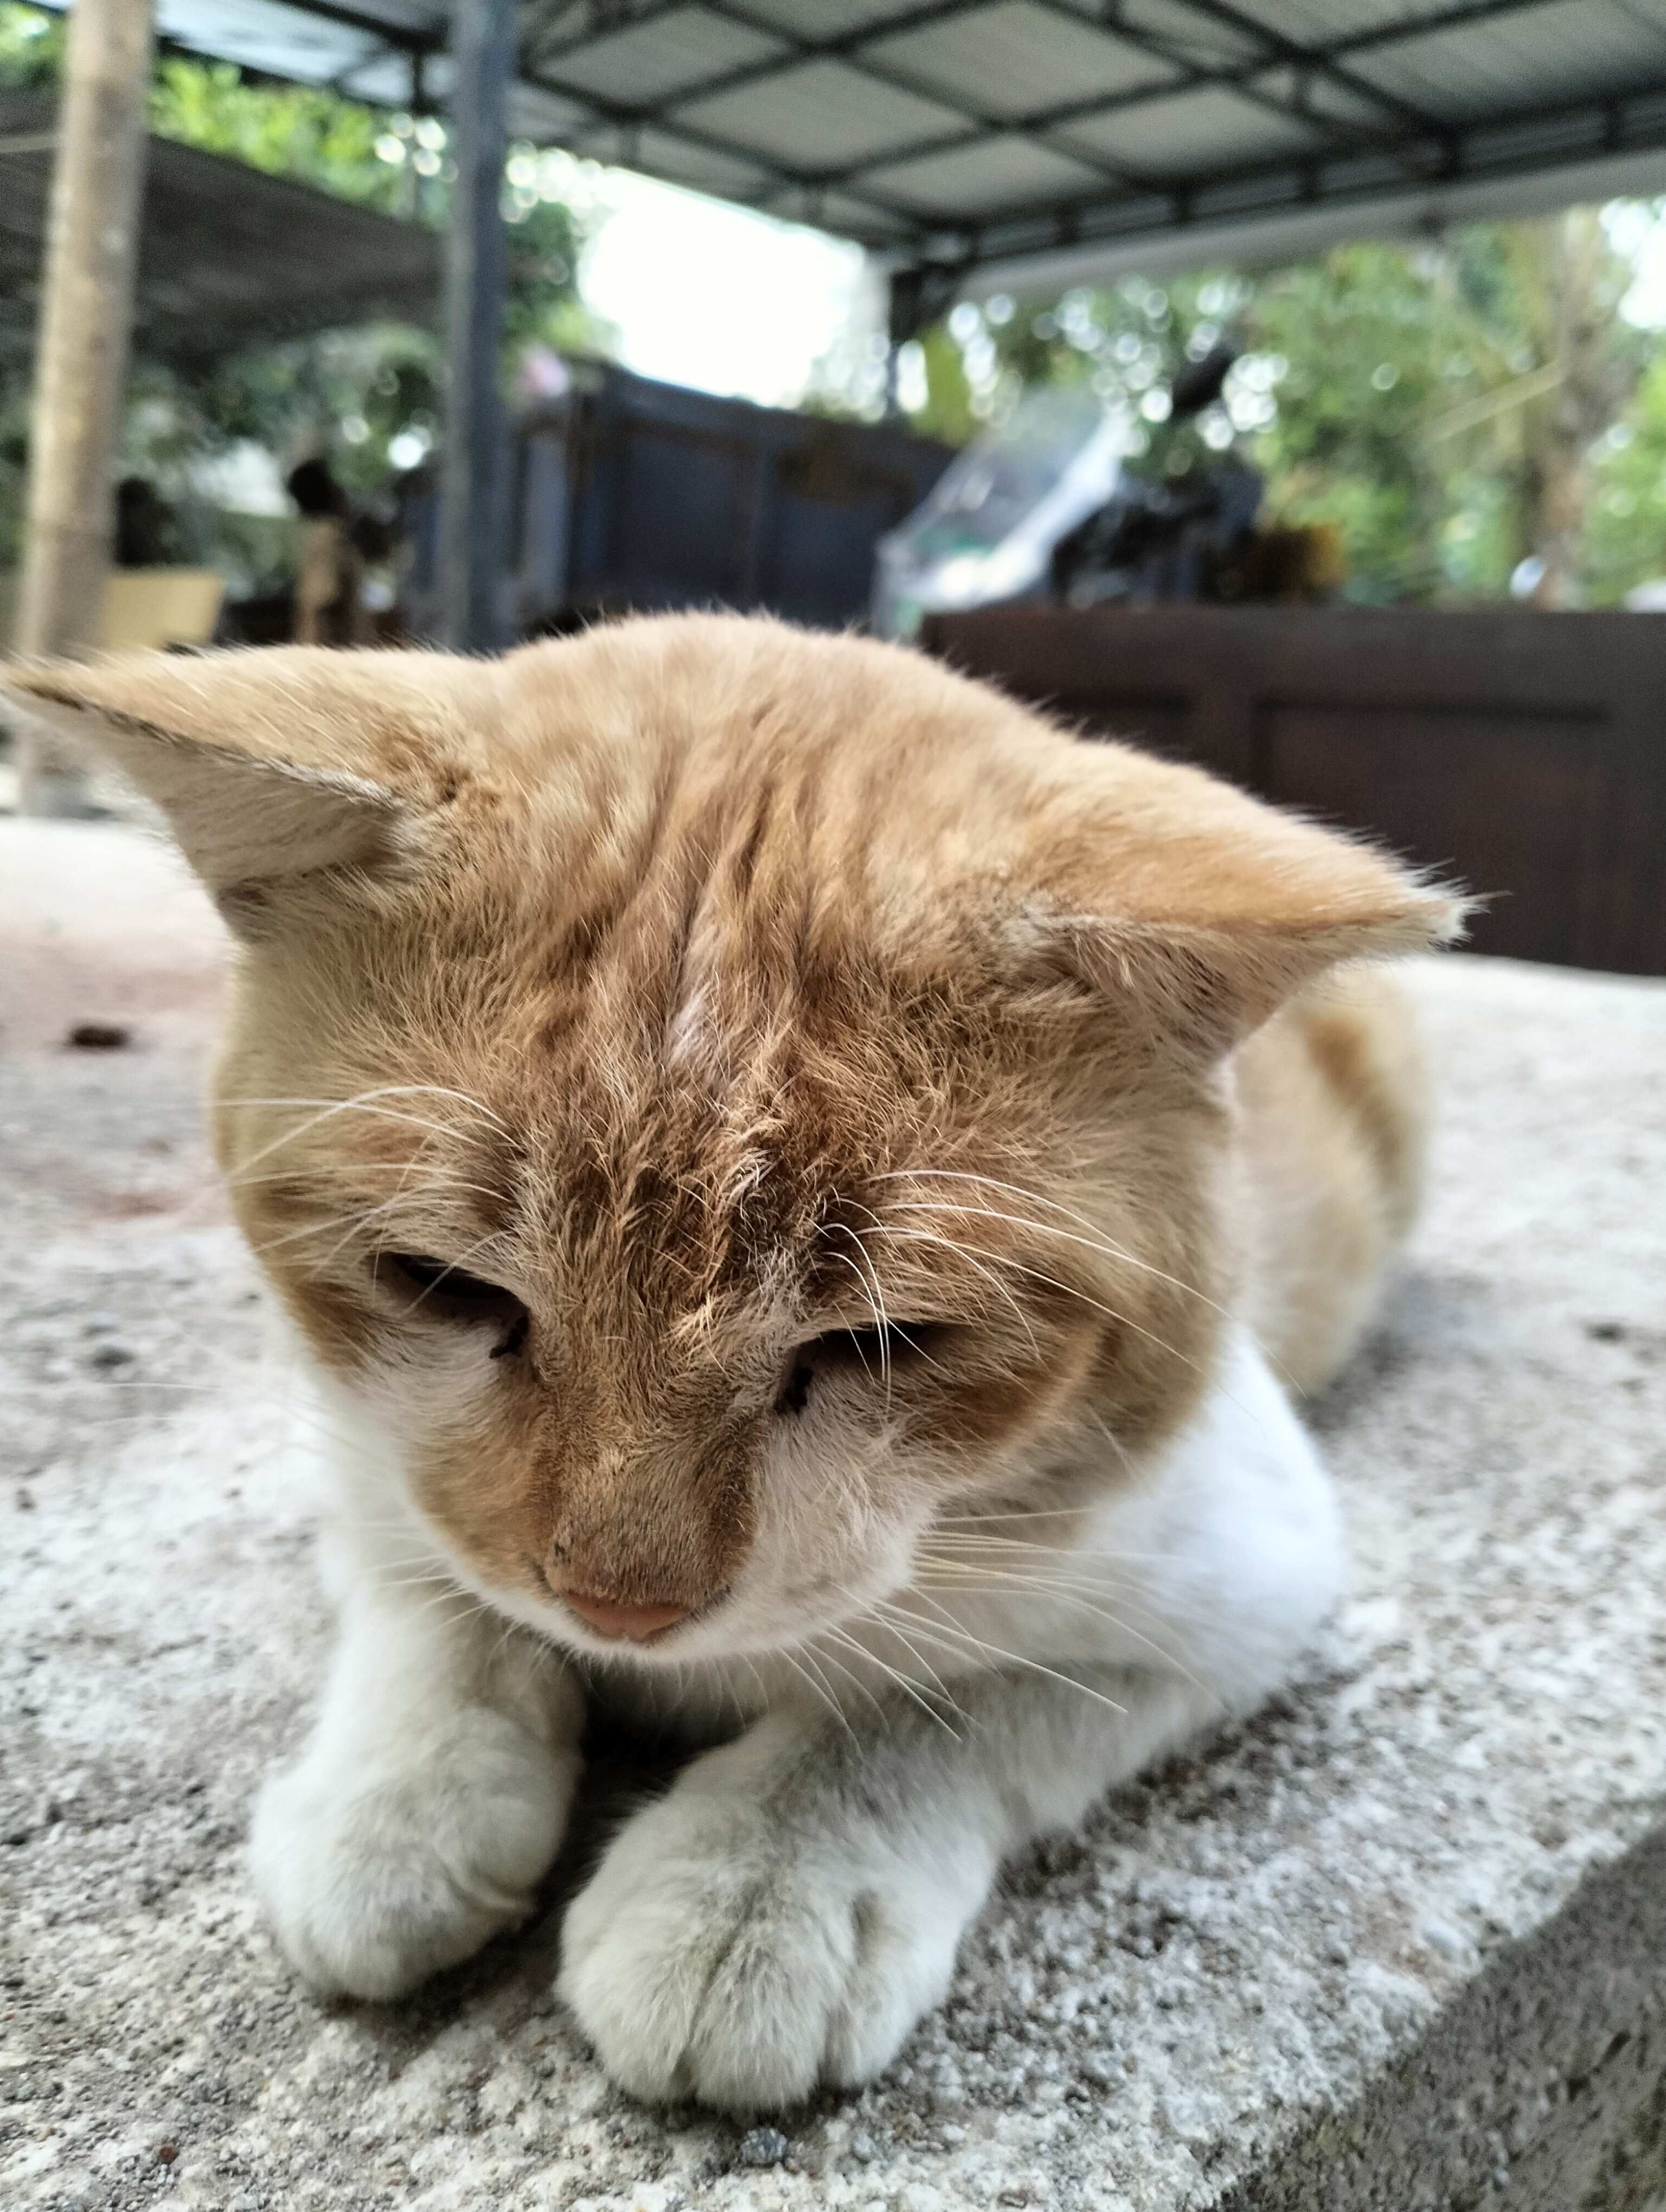oyen: (28, 511, 1507, 1771)
